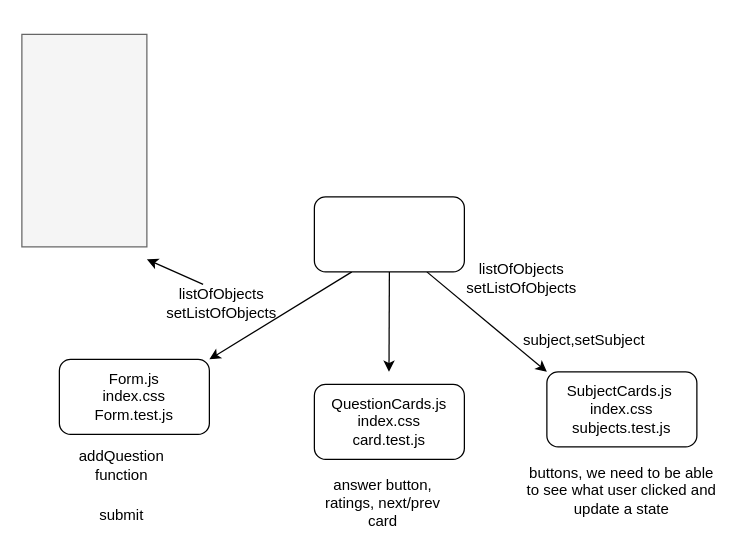
Some shapes in this 744 by 556 pixel diagram are drawn without their labels. Each missing label, with the box of its shape:
App.js App.test.js index.css: (313, 196, 464, 272)
ID Subject Question Answer: (21, 33, 147, 247)
